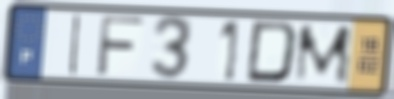1: (217, 19, 241, 83)
3: (148, 14, 194, 84)
D: (243, 19, 301, 86)
F: (93, 13, 147, 79)
I: (66, 11, 84, 77)
M: (292, 23, 354, 85)
